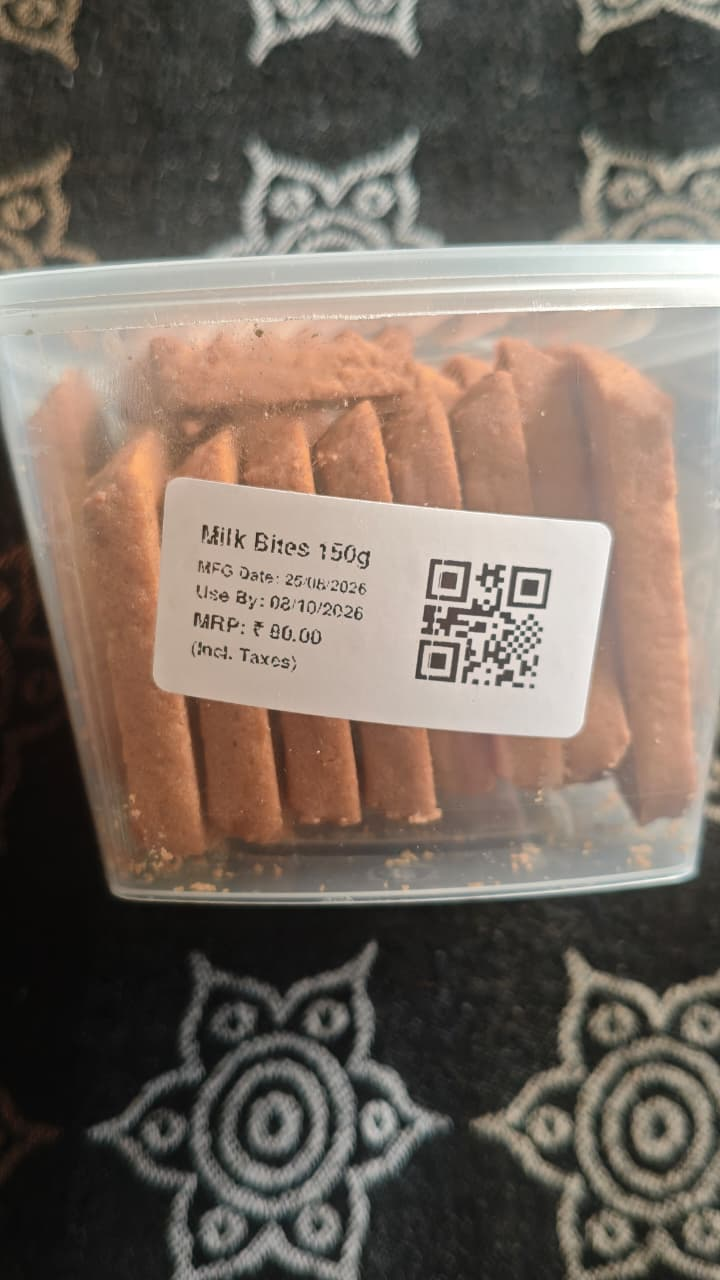EXP_Date: (264, 588, 375, 627)
MFG_Date: (204, 572, 387, 596)
MRP: (266, 614, 341, 652)
